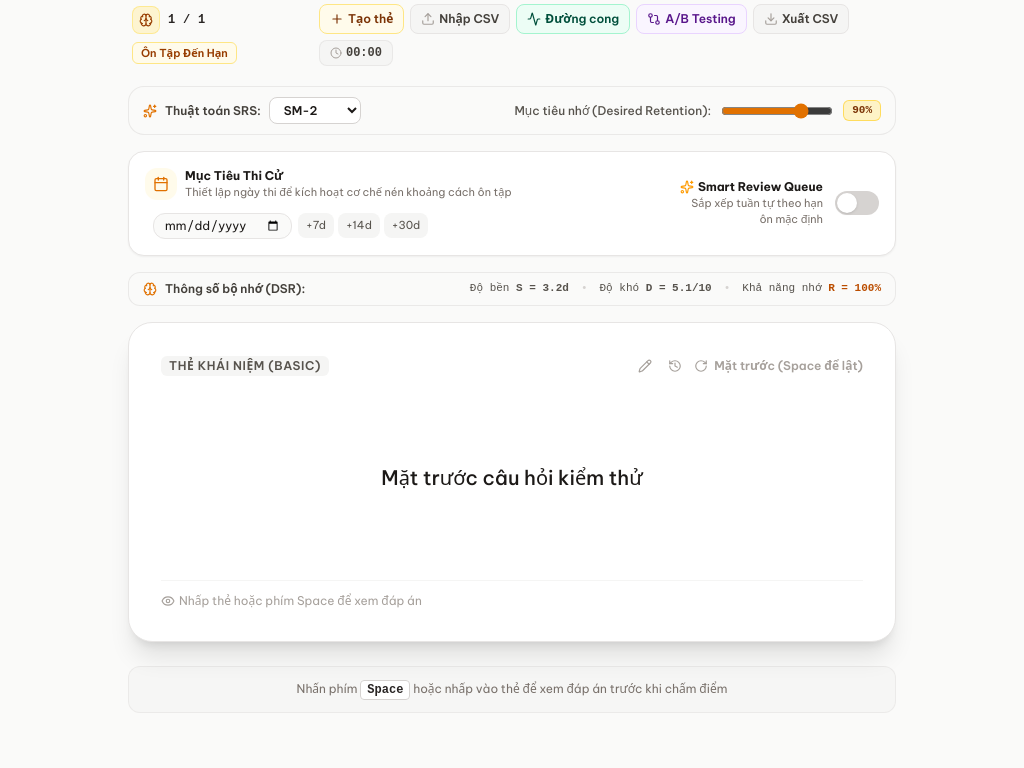
it: Ca kiểm chứng số 2 — SM-2 Preview Parity Contract (UI Production Verification) › Fixture 1: Thẻ mới (new card) › 1.1 (RED) Nút Again [1] phải hiển thị '1d' khớp scheduler, không hiển thị '< 1d'
What coordinates should you click on to do the following:
click the text "Mặt trước câu hỏi kiểm thử"
I would click on:
 (512, 477)
Its box is x1=381 y1=465 x2=643 y2=490.
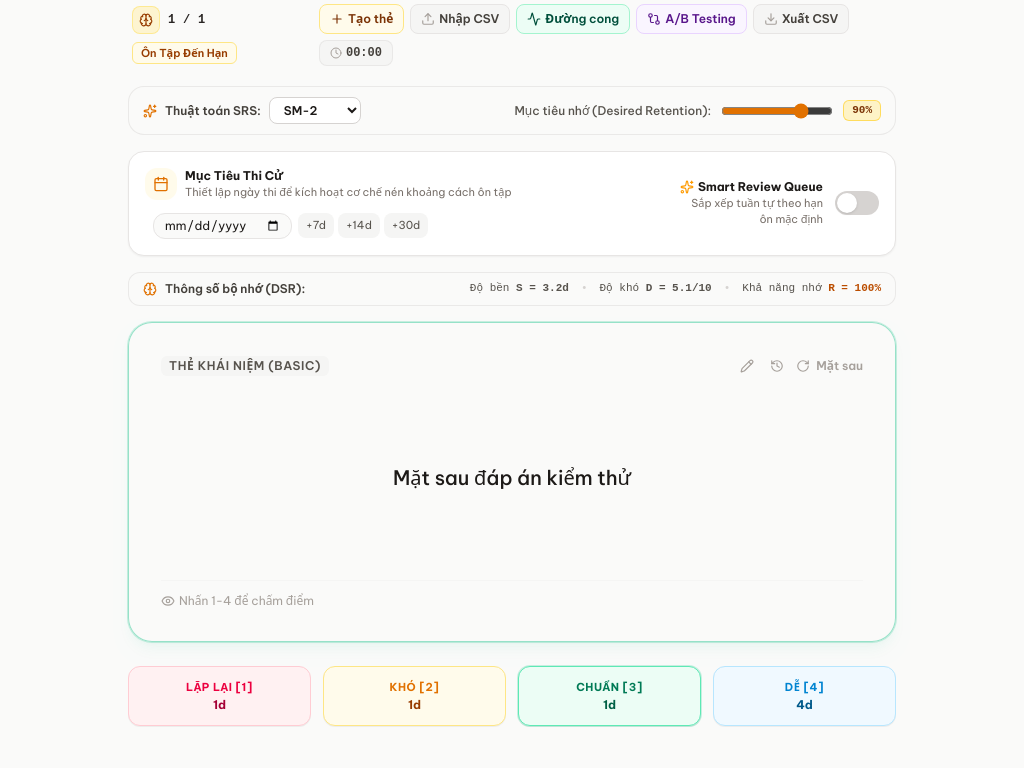
Check: the text with test id "rating-interval-preview-1" reads "1d", box x1=213 y1=697 x2=226 y2=712
